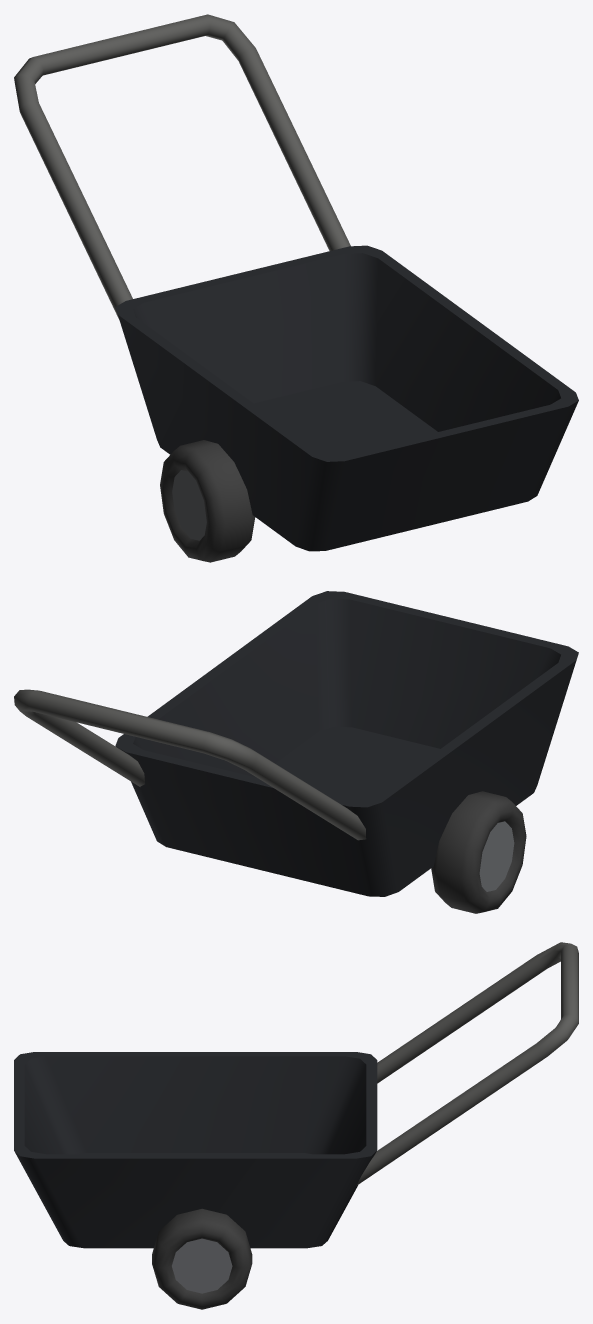
Rendered from GardenCart_3.fbx.
3 views of the same model, one above another, from view 1: azimuth 30°, elevation 25°; view 2: azimuth 150°, elevation 25°; view 3: azimuth 270°, elevation 25° (orthographic). The views are drawn at different scales.
Parts seen in each view (by area): view 1: GardenCart_3; view 2: GardenCart_3; view 3: GardenCart_3.
Boxes of the visible parts, x1=… form: GardenCart_3: x1=14, y1=14, x2=578, y2=562; GardenCart_3: x1=14, y1=591, x2=578, y2=913; GardenCart_3: x1=14, y1=942, x2=578, y2=1309.
Bounding box in the file's own units: 101 × 97.93 × 186.
